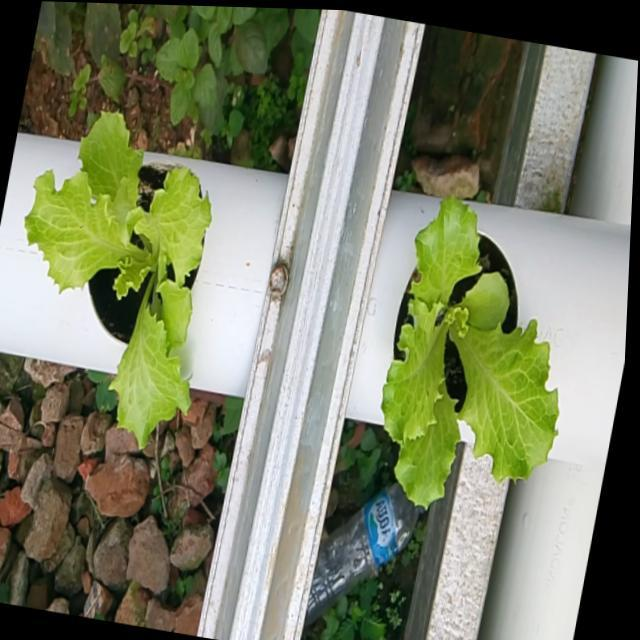Baby: (25, 108, 210, 444), (378, 191, 556, 506)
